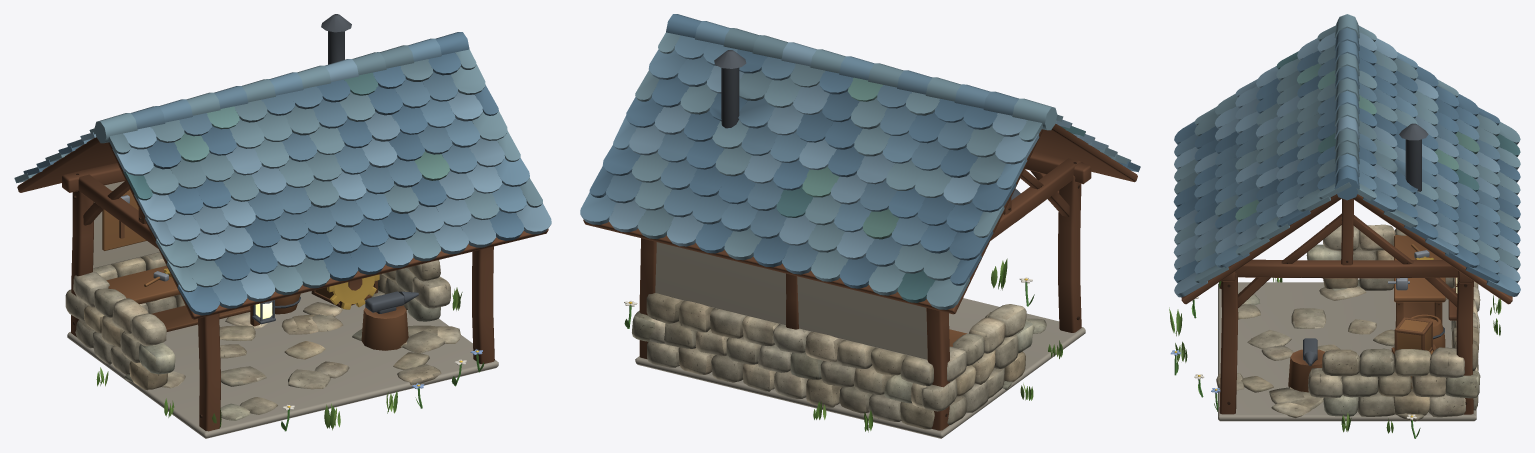
The model's file is workshop_hut.gltf.
3 renders of one model, left to right at view 1: azimuth 30°, elevation 25°; view 2: azimuth 150°, elevation 25°; view 3: azimuth 270°, elevation 25°, orthographic. The views are drawn at different scales.
Visible parts, largest first — view 1: Hut, Stones; view 2: Hut, Stones; view 3: Hut, Stones.
Part boxes in pixels (<box>): Hut: <box>14,14,551,438</box>; Stones: <box>65,252,460,420</box>; Hut: <box>580,14,1140,438</box>; Stones: <box>632,293,1046,429</box>; Hut: <box>1169,14,1520,438</box>; Stones: <box>1216,224,1480,421</box>.
Size of the model in its own units: 5.46 by 4.04 by 4.76.
30 materials, 1 textured.
